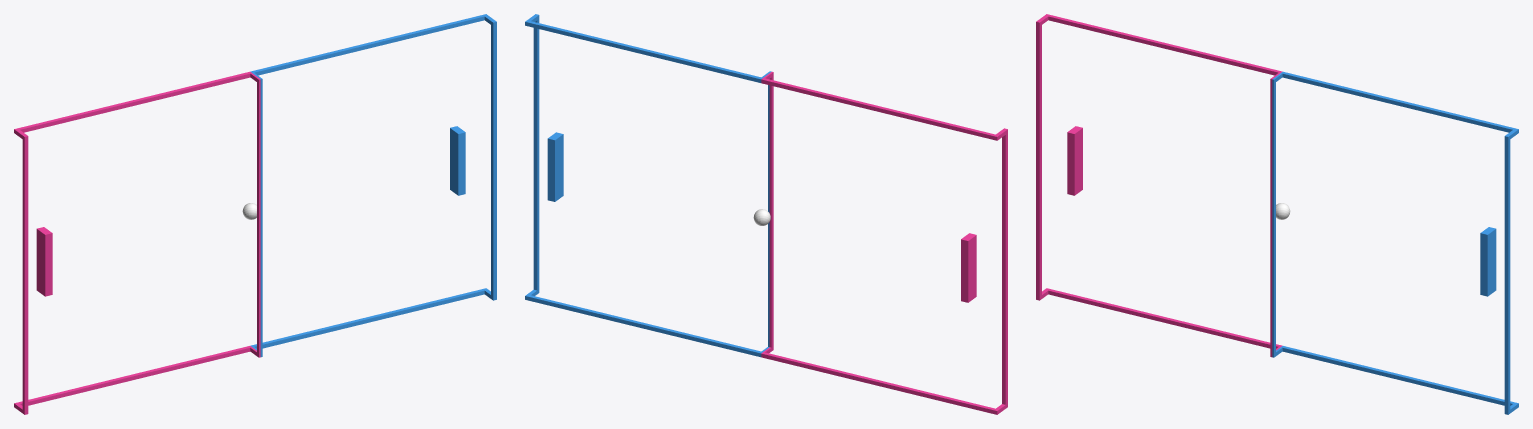
Rendered from game.glb.
The picture shows the model from 3 angles, left to right: view 1: azimuth 30°, elevation 25°; view 2: azimuth 150°, elevation 25°; view 3: azimuth 330°, elevation 25°; orthographic projection.
Parts seen in each view (by area): view 1: LGround, RGround, LRacket, RRacket; view 2: LGround, RGround, RRacket, LRacket; view 3: RGround, LGround, RRacket, LRacket.
Boxes of the visible parts, x1,y1,x2,y2 form: LGround: [14, 71, 260, 414]; RGround: [250, 14, 496, 357]; LRacket: [36, 227, 52, 296]; RRacket: [450, 126, 465, 195]; LGround: [761, 71, 1007, 414]; RGround: [525, 14, 771, 357]; RRacket: [547, 132, 563, 201]; LRacket: [961, 233, 976, 302]; RGround: [1272, 71, 1518, 414]; LGround: [1036, 14, 1282, 357]; RRacket: [1480, 227, 1496, 296]; LRacket: [1067, 126, 1082, 195].
Bounding box in the file's own units: 32 × 18 × 1.63.
